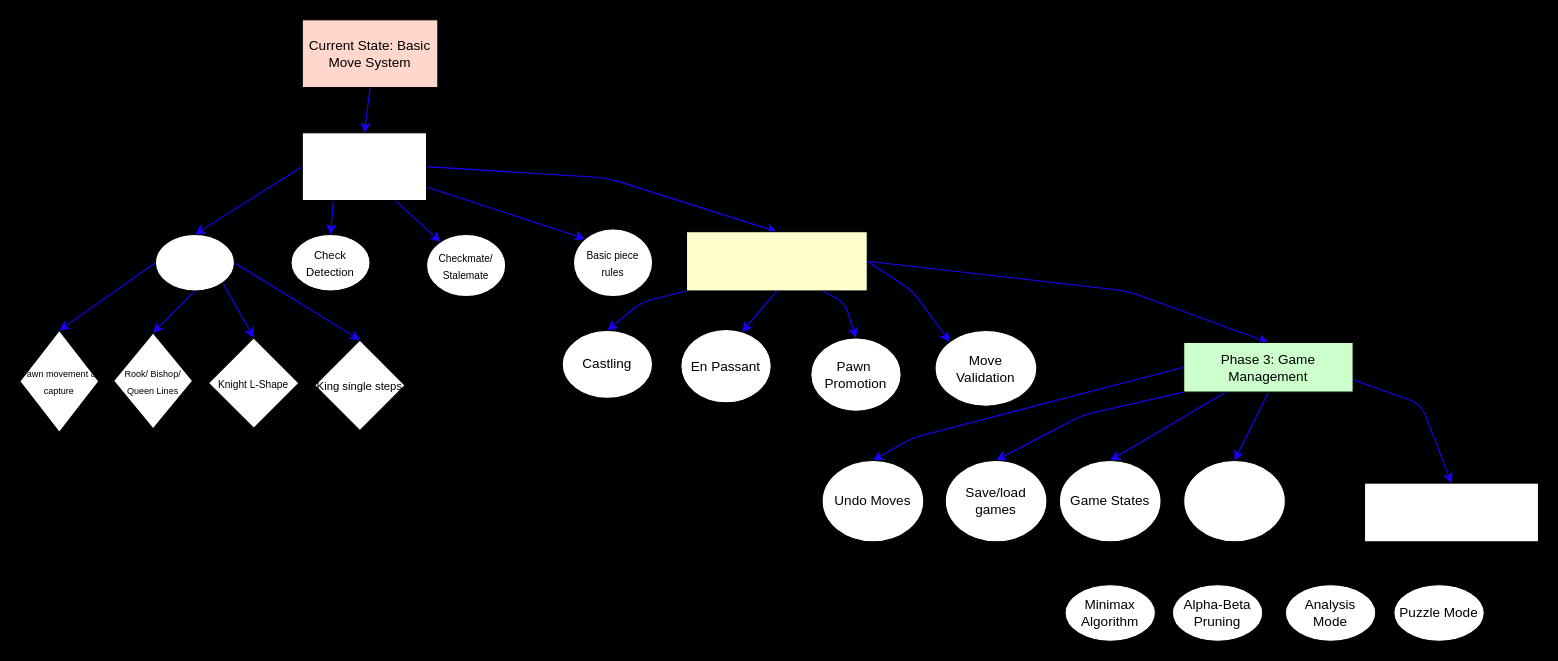
The diagram is 1558 pixels wide and 661 high, and some of its shapes have lost their labels. The shapes that lost their labels are listed below. From the top down, each one's centre as x and y in pixels, then its label:
At [364,166]: "Phase 1: Core Game Rules".
At [194,262]: "Valid Move Generation".
At [776,261]: "Phase 2: Special Rules".
At [1234,500]: "Timer System".
At [1450,512]: "Phase 4: AI Opponent".
